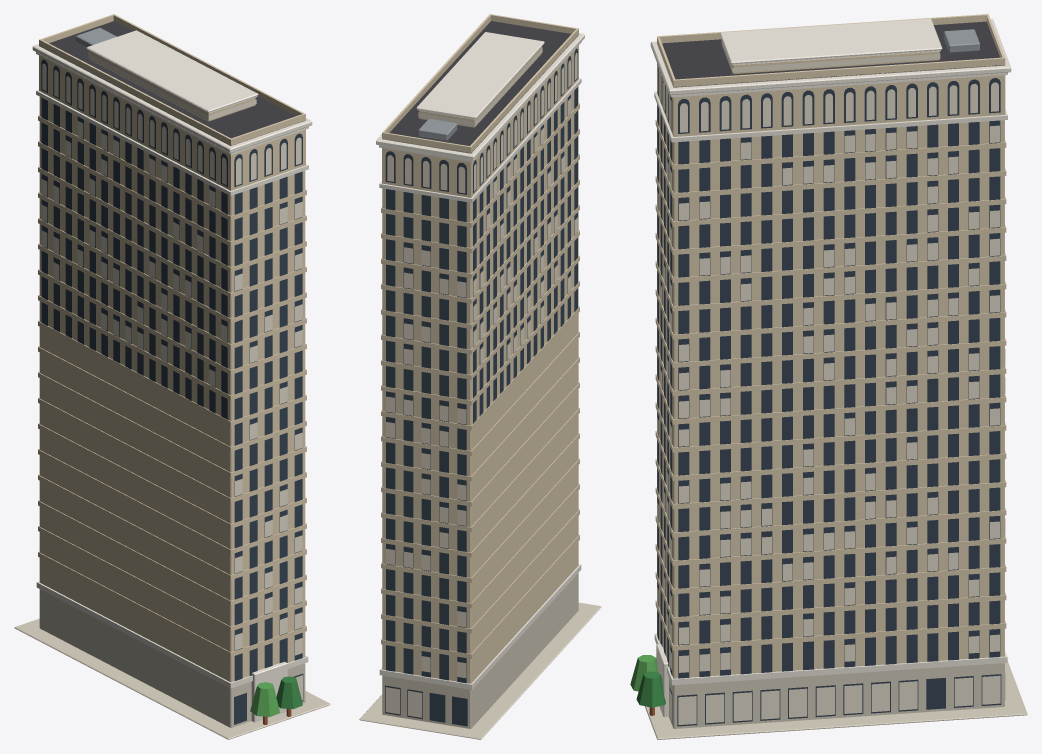
The model's file is 220-bush-street.glb.
The picture shows the model from 3 angles, left to right: view 1: azimuth 30°, elevation 25°; view 2: azimuth 150°, elevation 25°; view 3: azimuth 270°, elevation 25°; orthographic projection. The views are drawn at different scales.
Parts seen in each view (by area): view 1: 220-bush-street_body, 220-bush-street_night_glow; view 2: 220-bush-street_body, 220-bush-street_night_glow; view 3: 220-bush-street_body, 220-bush-street_night_glow.
Part boxes in pixels (left/top/right/bottom): 220-bush-street_body: left=14, top=14, right=330, bottom=739; 220-bush-street_night_glow: left=41, top=53, right=302, bottom=700; 220-bush-street_body: left=359, top=14, right=601, bottom=739; 220-bush-street_night_glow: left=385, top=47, right=577, bottom=717; 220-bush-street_body: left=630, top=14, right=1027, bottom=739; 220-bush-street_night_glow: left=657, top=40, right=1005, bottom=724.
Size of the model in its own units: 25.69 by 92 by 50.4.
